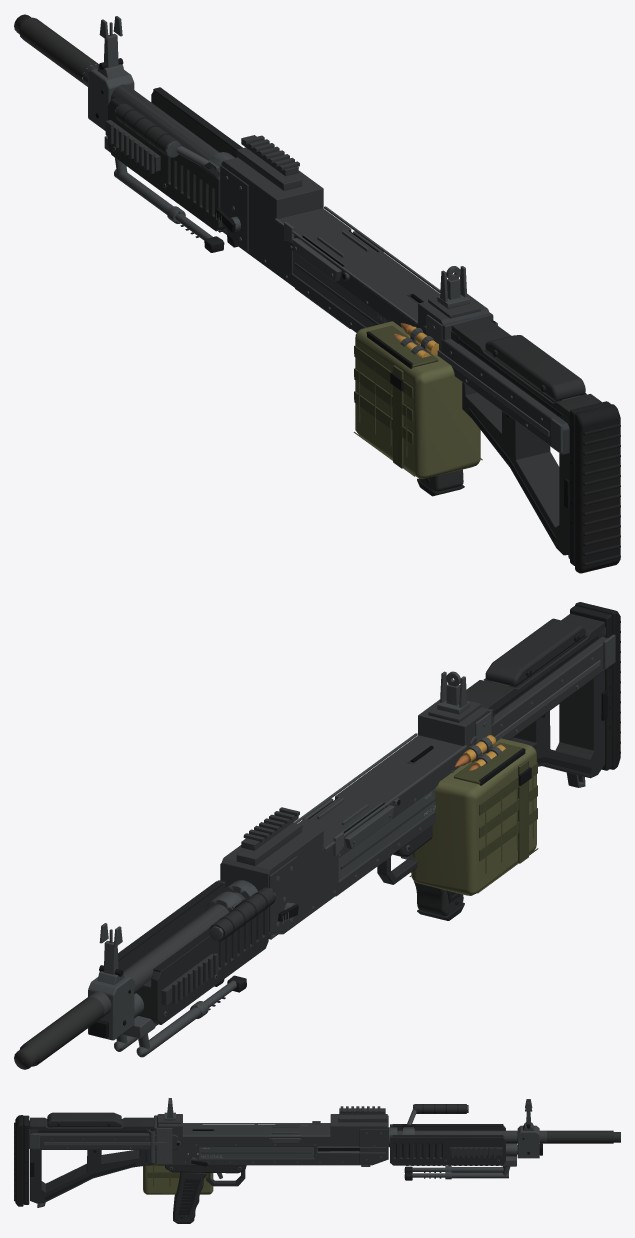
Rendered from weapon-46-DQ1fFtwo.glb.
3 views of the same model, one above another, from view 1: azimuth 30°, elevation 25°; view 2: azimuth 150°, elevation 25°; view 3: azimuth 270°, elevation 25° (orthographic). The views are drawn at different scales.
Visible parts, largest first — view 1: salient_weapon_body, salient_weapon_magazine, salient_weapon_cover, salient_weapon_iron, salient_weapon_belt; view 2: salient_weapon_body, salient_weapon_magazine, salient_weapon_cover, salient_weapon_iron, salient_weapon_belt; view 3: salient_weapon_body, salient_weapon_cover, salient_weapon_magazine, salient_weapon_iron.
Part boxes in pixels (x1,y1,x2,y2): salient_weapon_body: (14,14,620,573); salient_weapon_magazine: (353,321,482,478); salient_weapon_cover: (422,325,580,454); salient_weapon_iron: (99,16,469,308); salient_weapon_belt: (394,323,438,357); salient_weapon_body: (14,602,620,1069); salient_weapon_magazine: (409,738,538,895); salient_weapon_cover: (469,627,615,745); salient_weapon_iron: (99,671,469,946); salient_weapon_belt: (454,735,505,770); salient_weapon_body: (14,1104,620,1223); salient_weapon_cover: (29,1120,180,1149); salient_weapon_magazine: (143,1124,213,1194); salient_weapon_iron: (164,1098,532,1120).
Bounding box in the file's own units: 0.1131 × 0.2534 × 1.15.
